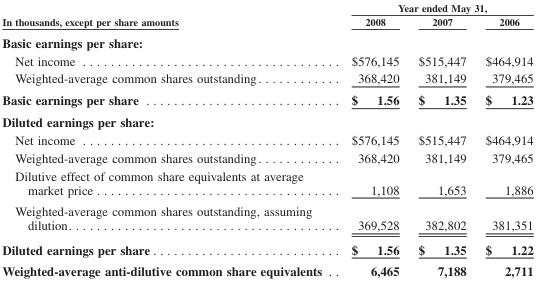table: (1, 1, 532, 278)
table column: (1, 1, 336, 278), (336, 1, 408, 278), (408, 1, 475, 278), (475, 1, 532, 278)
table column header: (1, 1, 532, 30)
table projected row header: (1, 30, 532, 51), (1, 110, 532, 130)
table row: (1, 200, 532, 236), (1, 166, 532, 200), (1, 236, 532, 259), (1, 88, 532, 110), (1, 30, 532, 51), (1, 110, 532, 130), (1, 69, 532, 88), (1, 259, 532, 278), (1, 51, 532, 69), (1, 130, 532, 148), (1, 148, 532, 166), (1, 14, 532, 30), (1, 1, 532, 14)
table spanning cell: (1, 1, 336, 30), (336, 1, 532, 14)
